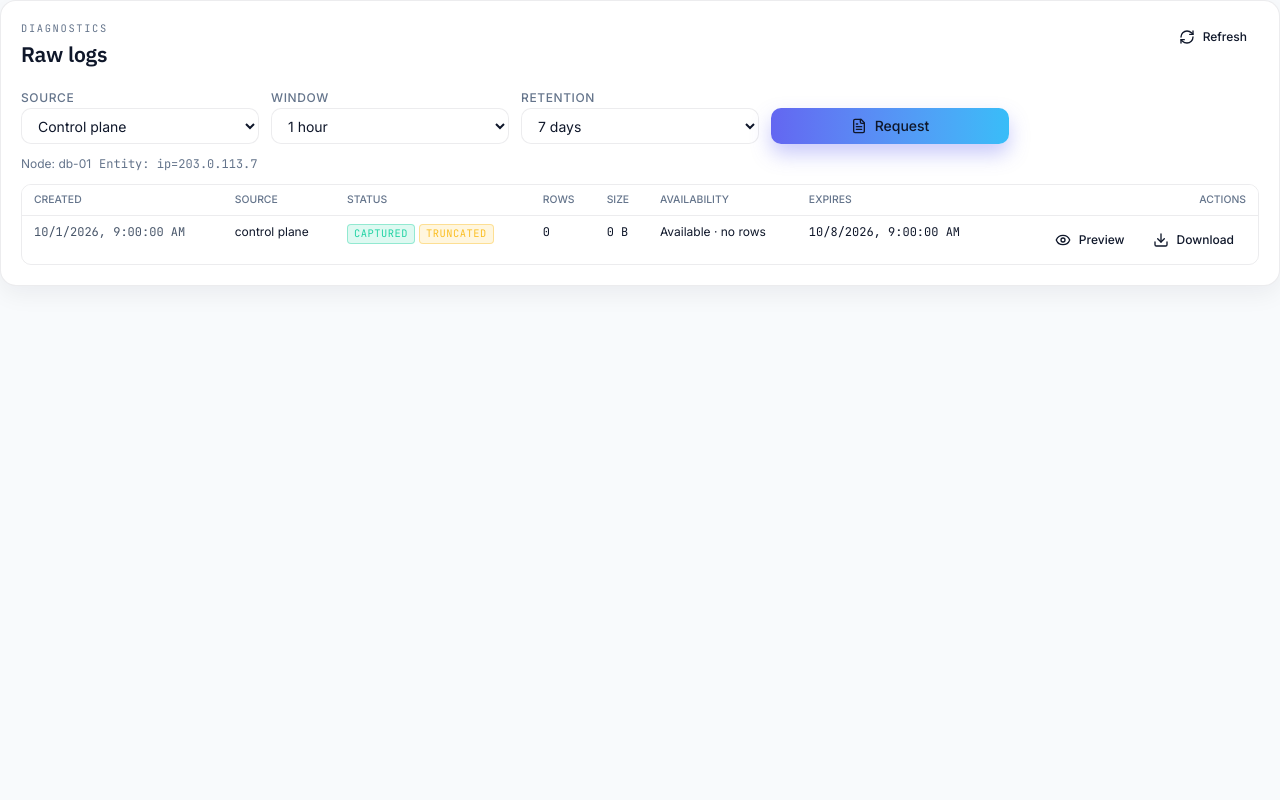
LogDumpPanel › shows empty-source and truncation state and loads preview through the API client
Expected: the text "Available · no rows" is shown, [648, 215, 797, 264]
Expected: the text "truncated" is shown, [426, 227, 487, 241]
Click the button "Preview" at (1090, 240), box [1043, 224, 1136, 256]
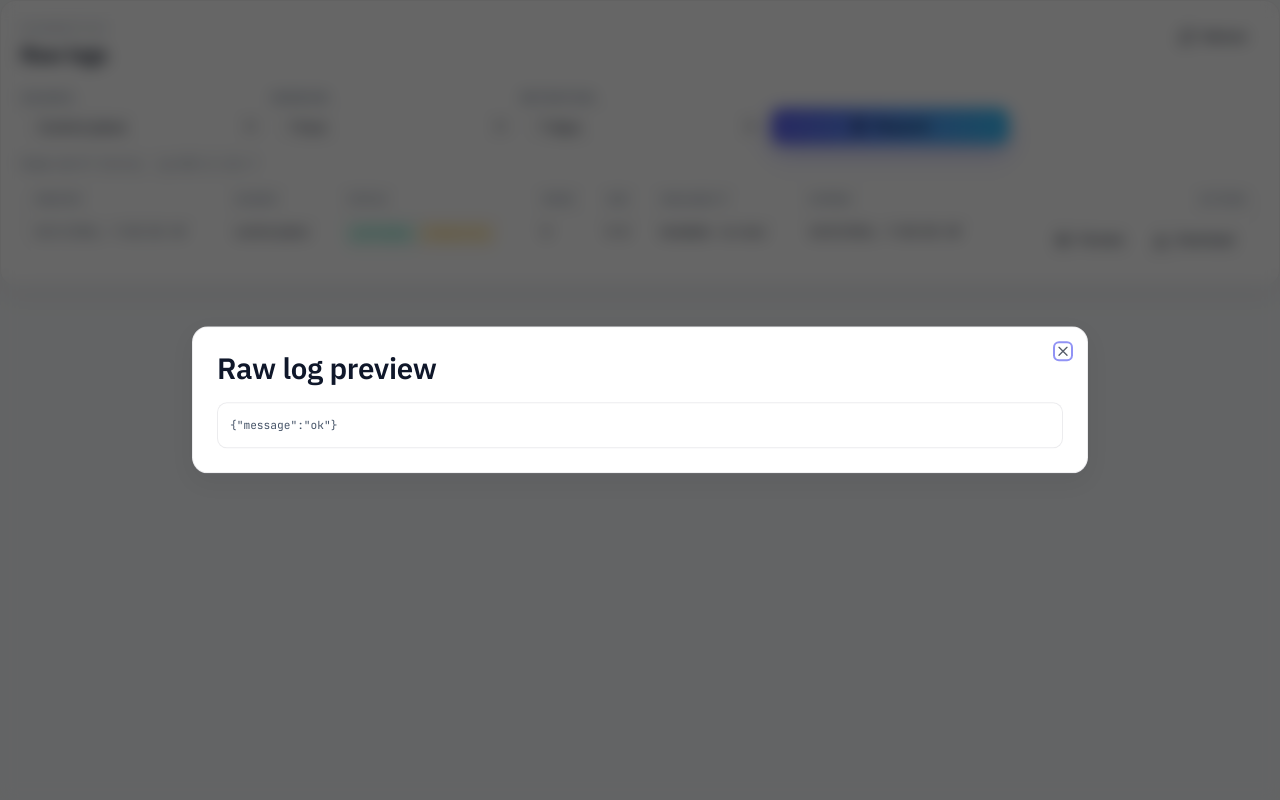
Result: the text "{\"message\":\"ok\"}" is shown at [217, 403, 1063, 449]
